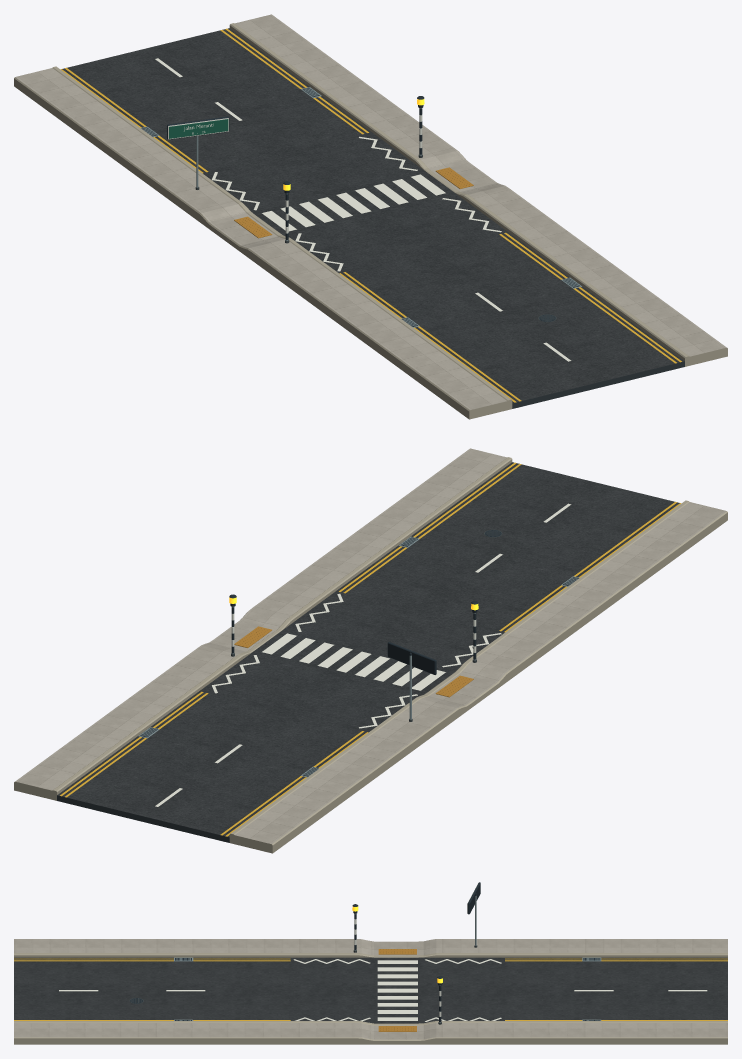
3 views of the same model, one above another, from view 1: azimuth 30°, elevation 25°; view 2: azimuth 150°, elevation 25°; view 3: azimuth 270°, elevation 25° (orthographic). The views are drawn at different scales.
Visible parts, largest first — view 1: Road Deck, Kerbs and Footways, Road Markings, Pedestrian Markings, Local Street Signs, Tactile Paving; view 2: Road Deck, Kerbs and Footways, Road Markings, Pedestrian Markings, Local Street Signs, Tactile Paving; view 3: Road Deck, Kerbs and Footways, Road Markings, Pedestrian Markings, Tactile Paving, Crossing Beacons, Drainage and Utility Covers, Local Street Signs.
Part boxes in pixels (x1=…): Road Deck: x1=62, y1=28, x2=684, y2=408; Kerbs and Footways: x1=14, y1=14, x2=727, y2=419; Road Markings: x1=60, y1=28, x2=681, y2=402; Pedestrian Markings: x1=262, y1=174, x2=445, y2=231; Local Street Signs: x1=167, y1=116, x2=229, y2=189; Tactile Paving: x1=234, y1=167, x2=473, y2=238; Road Deck: x1=57, y1=462, x2=679, y2=842; Kerbs and Footways: x1=14, y1=448, x2=727, y2=853; Road Markings: x1=60, y1=462, x2=681, y2=836; Pedestrian Markings: x1=262, y1=633, x2=445, y2=690; Local Street Signs: x1=387, y1=642, x2=436, y2=721; Tactile Paving: x1=234, y1=626, x2=473, y2=697; Road Deck: x1=14, y1=957, x2=727, y2=1023; Kerbs and Footways: x1=14, y1=939, x2=727, y2=1044; Road Markings: x1=14, y1=958, x2=727, y2=1021; Pedestrian Markings: x1=377, y1=960, x2=417, y2=1020; Tactile Paving: x1=378, y1=949, x2=416, y2=1031; Crossing Beacons: x1=352, y1=904, x2=442, y2=1024; Drainage and Utility Covers: x1=129, y1=957, x2=601, y2=1020; Local Street Signs: x1=467, y1=882, x2=480, y2=947.
Bounding box in the file's own units: 10.71 × 3.04 × 32.
13 materials, 2 textured.
